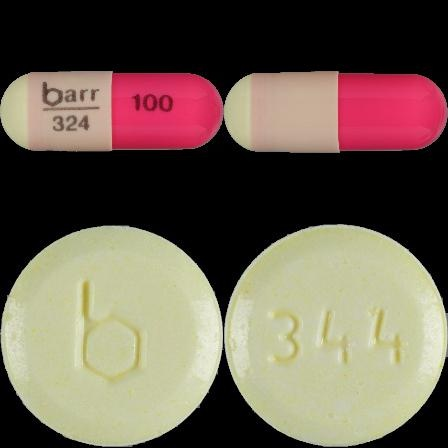0555-0324: (0, 0, 224, 224)
